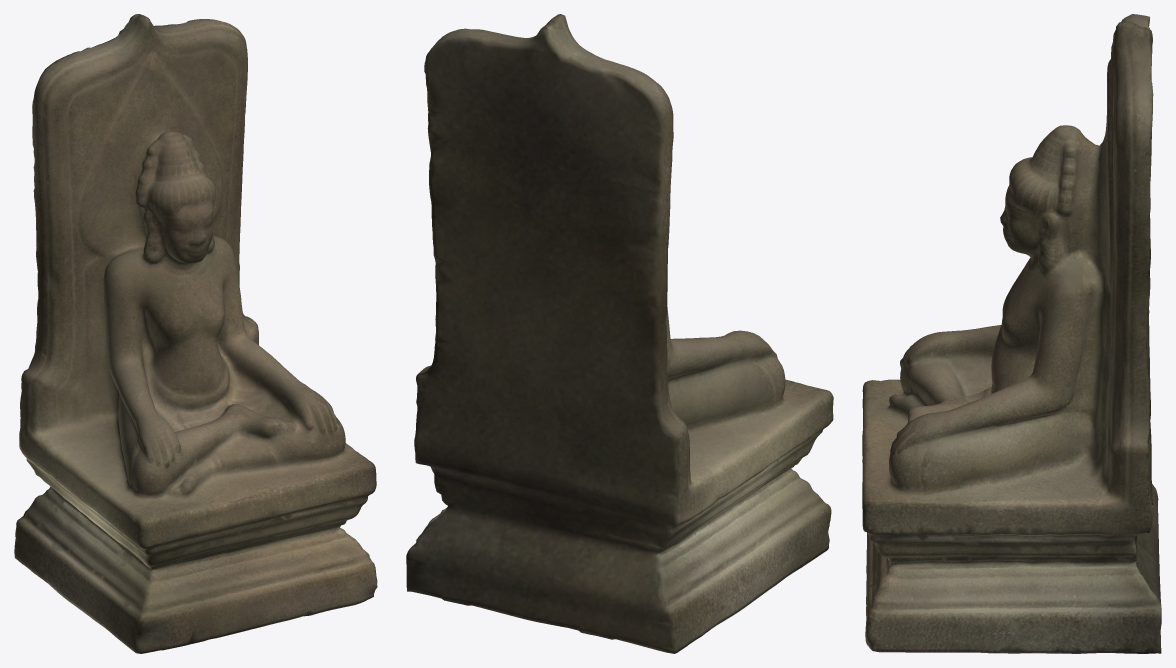
File: 19_thanphuonghuong_isana_final.glb
3 renders of one model, left to right at view 1: azimuth 30°, elevation 25°; view 2: azimuth 150°, elevation 25°; view 3: azimuth 270°, elevation 25°, orthographic. The views are drawn at different scales.
Size of the model in its own units: 0.3764 by 0.7769 by 0.3705.
1 material, 1 textured.
